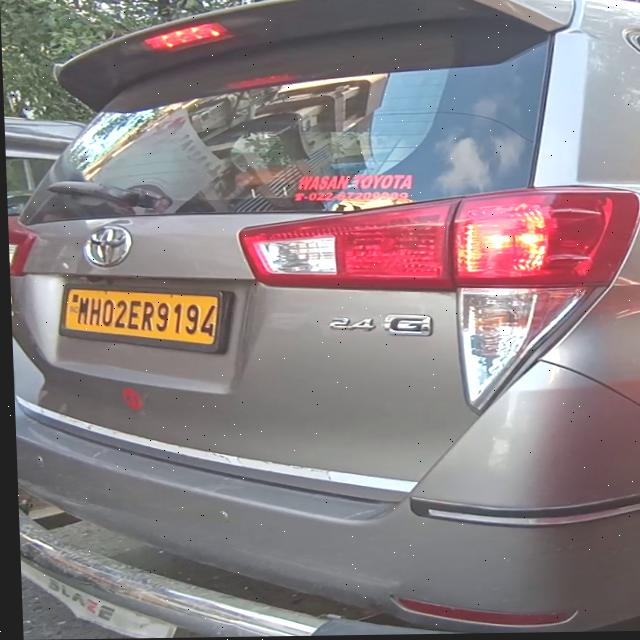plate: (53, 279, 237, 361)
